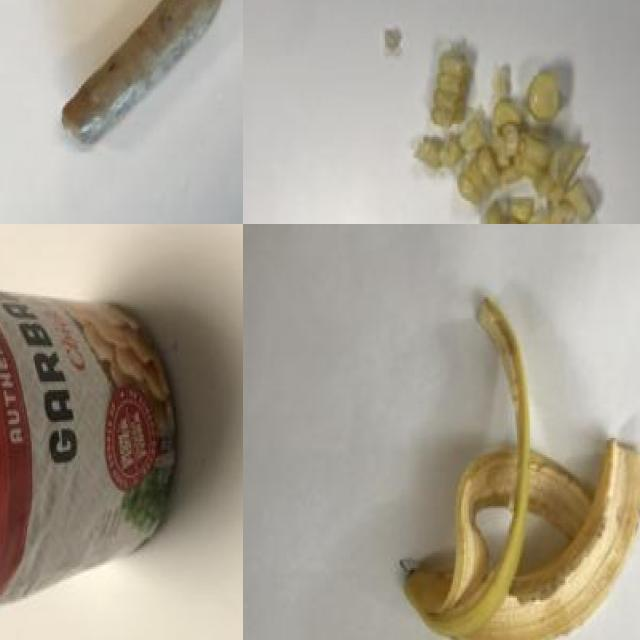compost: (392, 288, 640, 640), (398, 25, 619, 224), (13, 0, 243, 186)
plastic: (0, 245, 196, 640)
